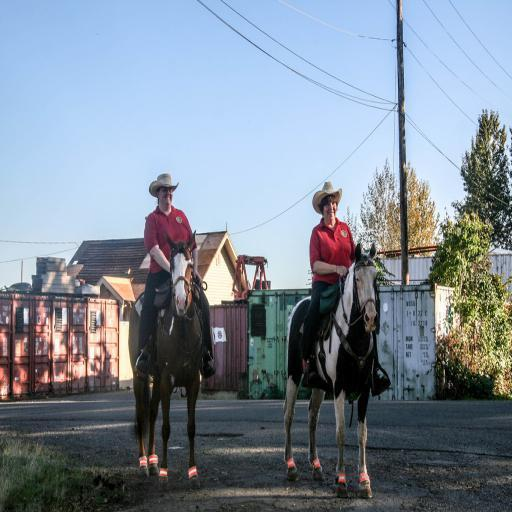horse: (284, 242, 378, 500), (126, 228, 216, 492)
